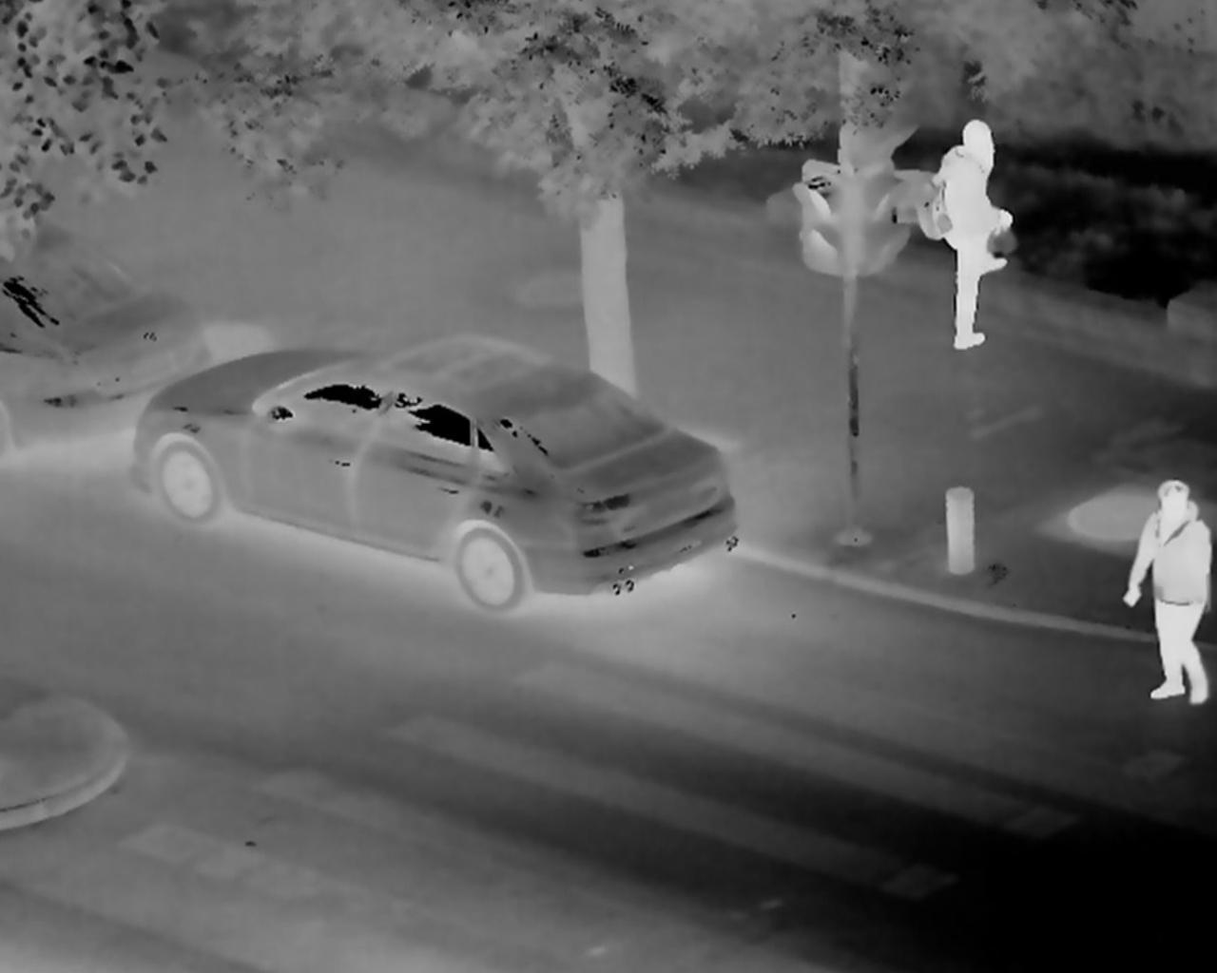person: (917, 119, 1021, 353), (1118, 473, 1215, 712)
